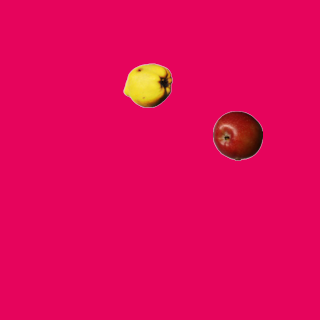Apple Braeburn: (212, 110, 262, 160)
Quince: (122, 60, 172, 110)
